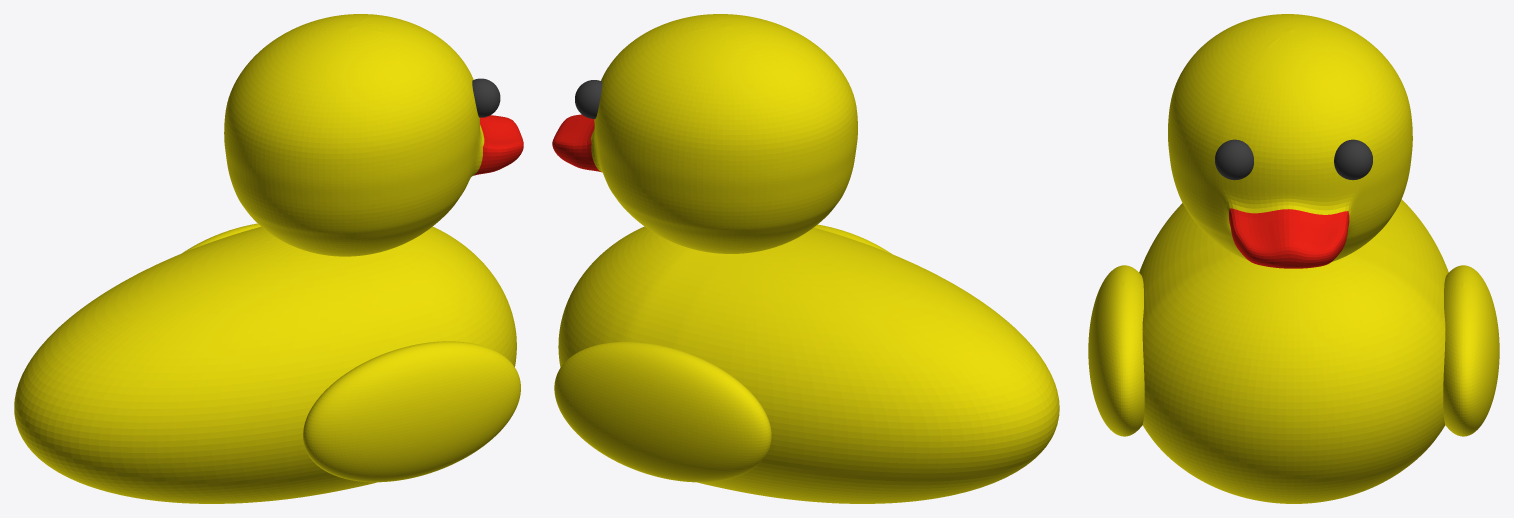
The model's file is duck.fbx.
The picture shows the model from 3 angles, left to right: view 1: azimuth 30°, elevation 25°; view 2: azimuth 150°, elevation 25°; view 3: azimuth 270°, elevation 25°; orthographic projection. The views are drawn at different scales.
Visible parts, largest first — view 1: Duck; view 2: Duck; view 3: Duck.
Part boxes in pixels (<box>): Duck: <box>14,14,523,503</box>; Duck: <box>552,14,1059,503</box>; Duck: <box>1088,14,1499,503</box>.
Bounding box in the file's own units: 342 × 293 × 241.
